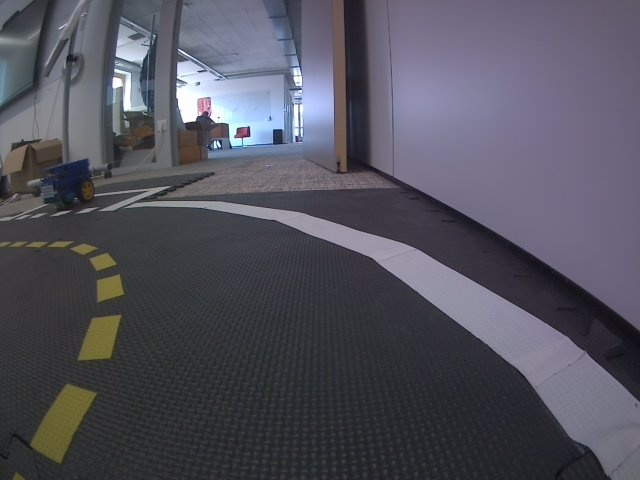Bot: (40, 158, 94, 210)
occupiedSlot: (10, 186, 172, 222)
